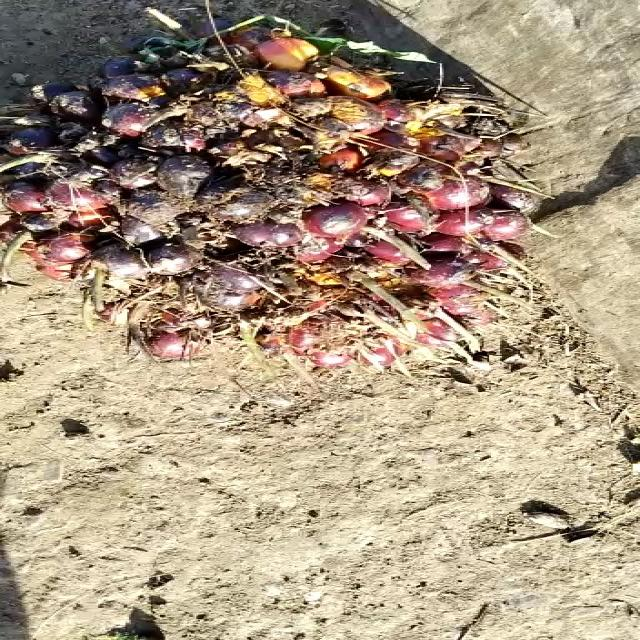palm oil: (0, 11, 529, 380)
